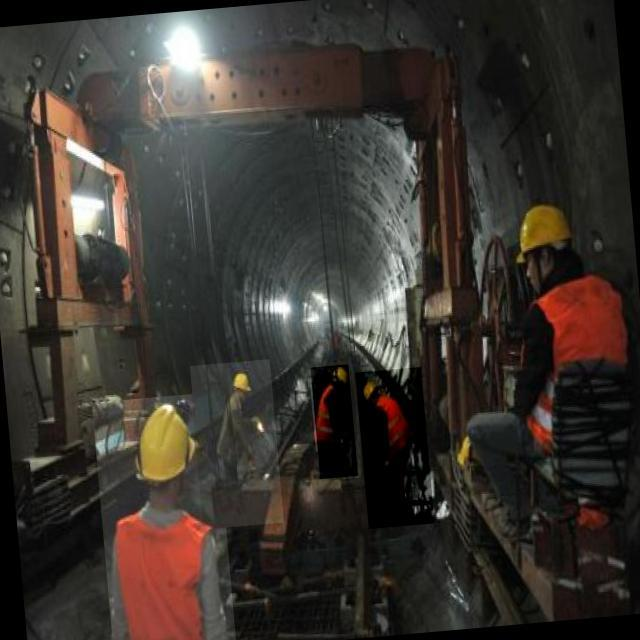Helmet: (136, 400, 203, 486), (514, 203, 577, 271), (231, 369, 252, 396), (363, 381, 379, 402), (330, 365, 348, 383)
Person: (462, 184, 639, 576), (95, 377, 230, 640), (357, 358, 435, 536), (300, 337, 365, 520), (213, 356, 289, 502)
Safety Vest: (515, 272, 640, 542), (114, 504, 222, 640), (371, 393, 417, 465), (310, 382, 347, 451)
